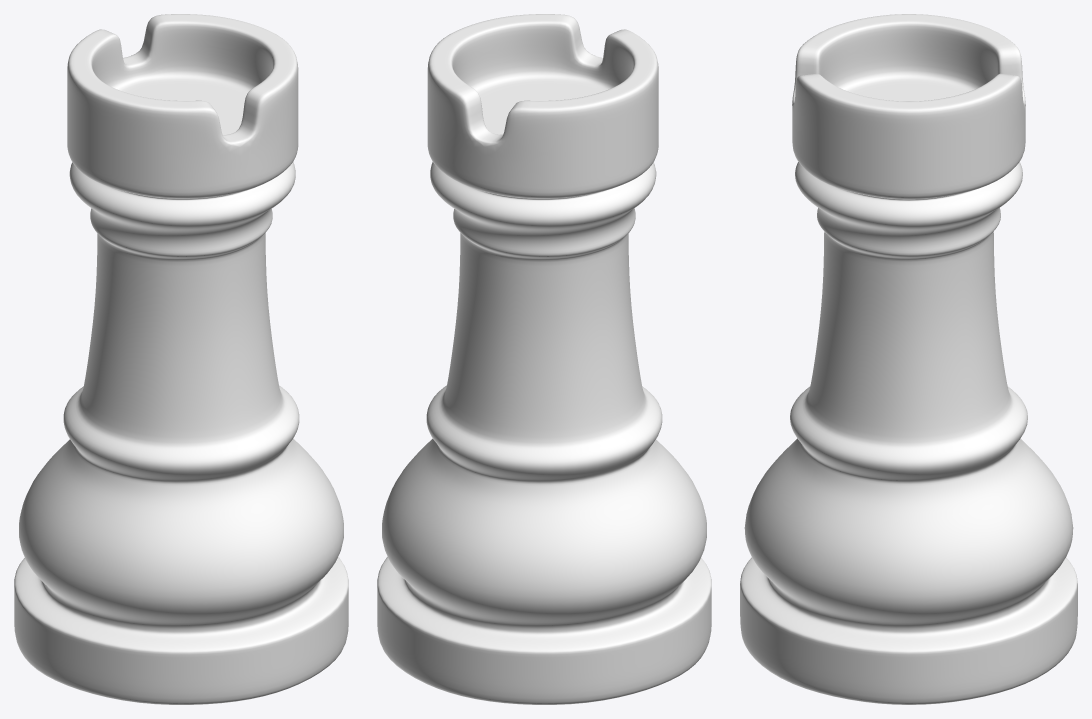
Rendered from Rook.obj.
3 views of the same model, side by side, from view 1: azimuth 30°, elevation 25°; view 2: azimuth 150°, elevation 25°; view 3: azimuth 270°, elevation 25° (orthographic).
Parts seen in each view (by area): view 1: Tower; view 2: Tower; view 3: Tower.
Boxes of the visible parts, x1,y1,x2,y2 form: Tower: [14, 14, 348, 704]; Tower: [377, 14, 711, 704]; Tower: [740, 14, 1077, 704].
Size of the model in its own units: 0.6067 by 1.14 by 0.6067.
1 material, 1 textured.
